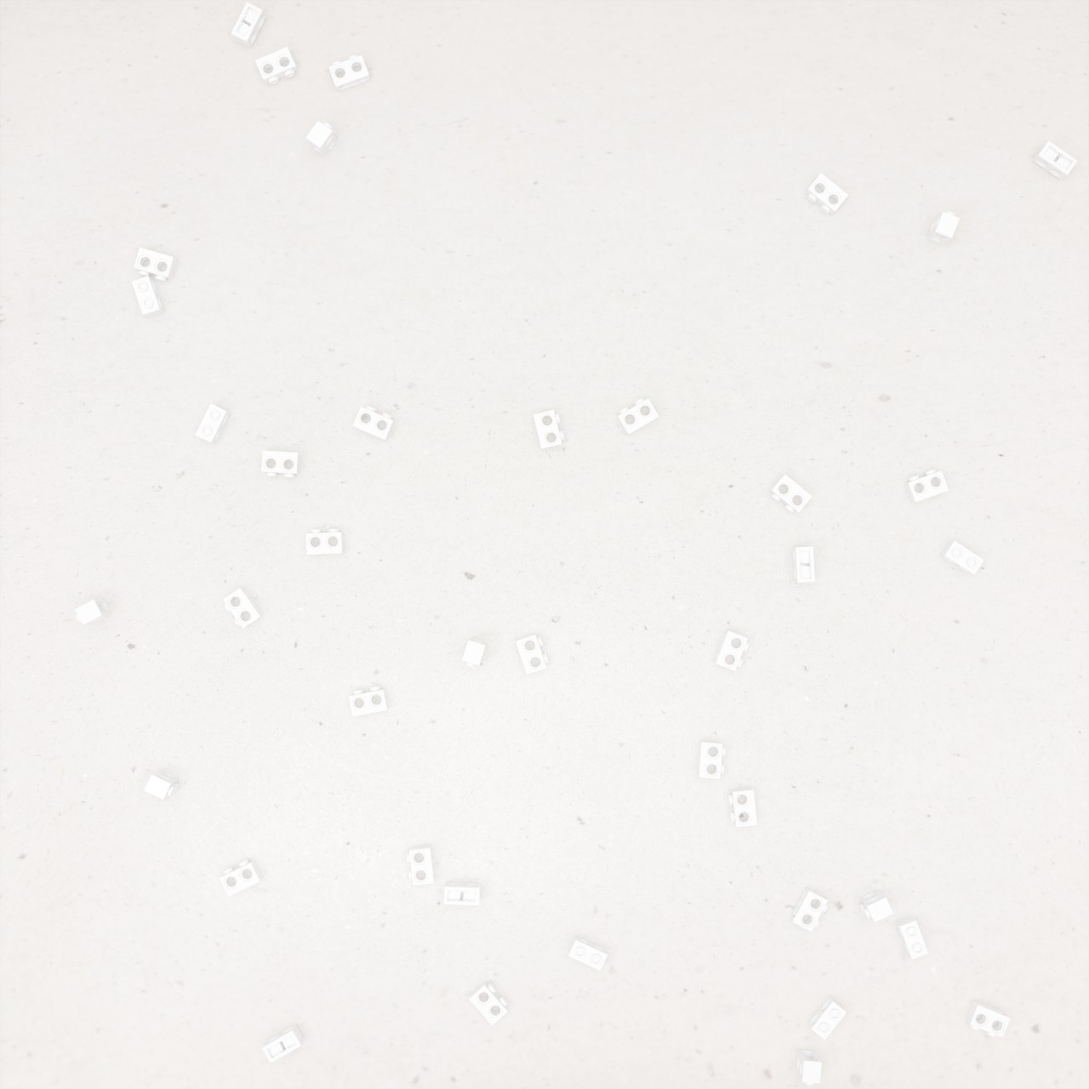lego: (805, 173, 849, 215), (469, 980, 509, 1026), (1032, 140, 1078, 180), (807, 995, 847, 1040), (965, 1000, 1011, 1038), (790, 887, 828, 932), (223, 587, 263, 629), (255, 46, 298, 85), (769, 474, 812, 513), (262, 1024, 305, 1063), (219, 859, 263, 897), (231, 2, 266, 48), (617, 398, 659, 436), (329, 55, 371, 92), (134, 247, 178, 282), (895, 915, 929, 960), (904, 469, 949, 503), (939, 541, 984, 575), (353, 405, 395, 441), (195, 403, 231, 444), (568, 935, 608, 971), (714, 630, 749, 671), (515, 633, 549, 675), (131, 276, 165, 318), (533, 410, 565, 450), (349, 686, 389, 717), (859, 889, 894, 923), (406, 845, 435, 886), (728, 787, 757, 827), (306, 120, 337, 157), (697, 740, 726, 779), (927, 211, 960, 245), (261, 450, 300, 478), (144, 769, 179, 800), (75, 598, 112, 625), (306, 529, 344, 555), (796, 1049, 822, 1085), (444, 882, 481, 906), (792, 546, 815, 583), (462, 638, 487, 668)
